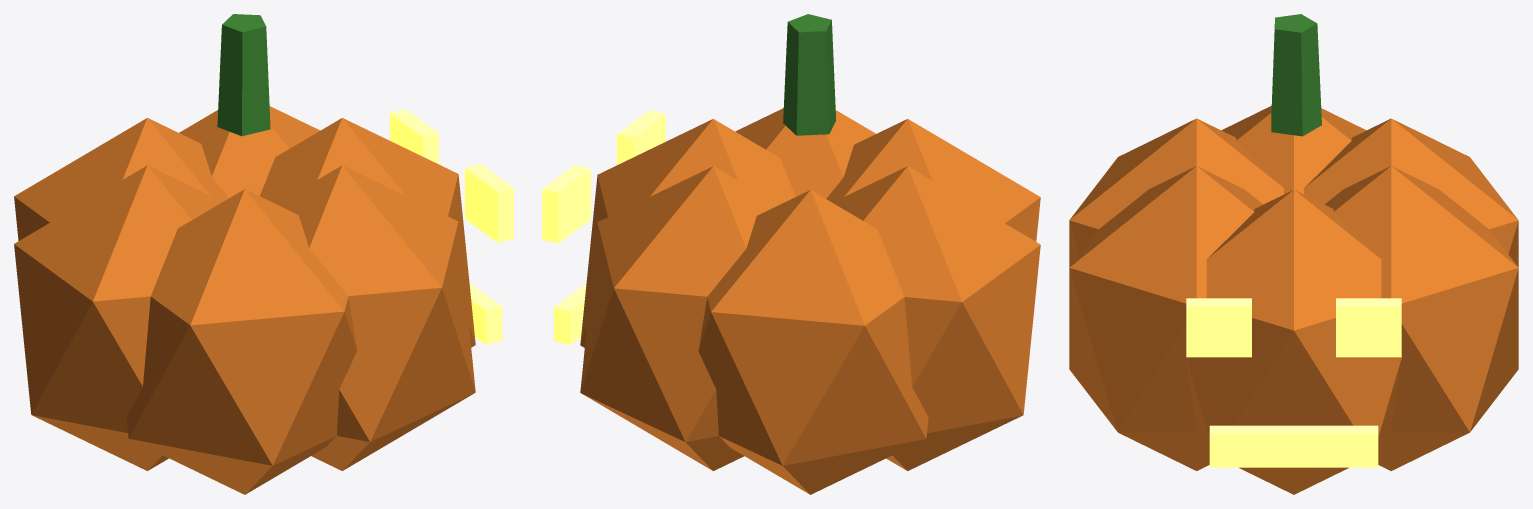
The model's file is pumpkin_lantern.glb.
3 renders of one model, left to right at view 1: azimuth 30°, elevation 25°; view 2: azimuth 150°, elevation 25°; view 3: azimuth 270°, elevation 25°, orthographic.
Parts seen in each view (by area): view 1: pumpkin_lantern; view 2: pumpkin_lantern; view 3: pumpkin_lantern.
Part boxes in pixels (x1,y1,x2,y2): pumpkin_lantern: (14,14,513,494); pumpkin_lantern: (542,14,1040,494); pumpkin_lantern: (1069,14,1518,494).
Size of the model in its own units: 0.5281 by 0.5 by 0.4801.
